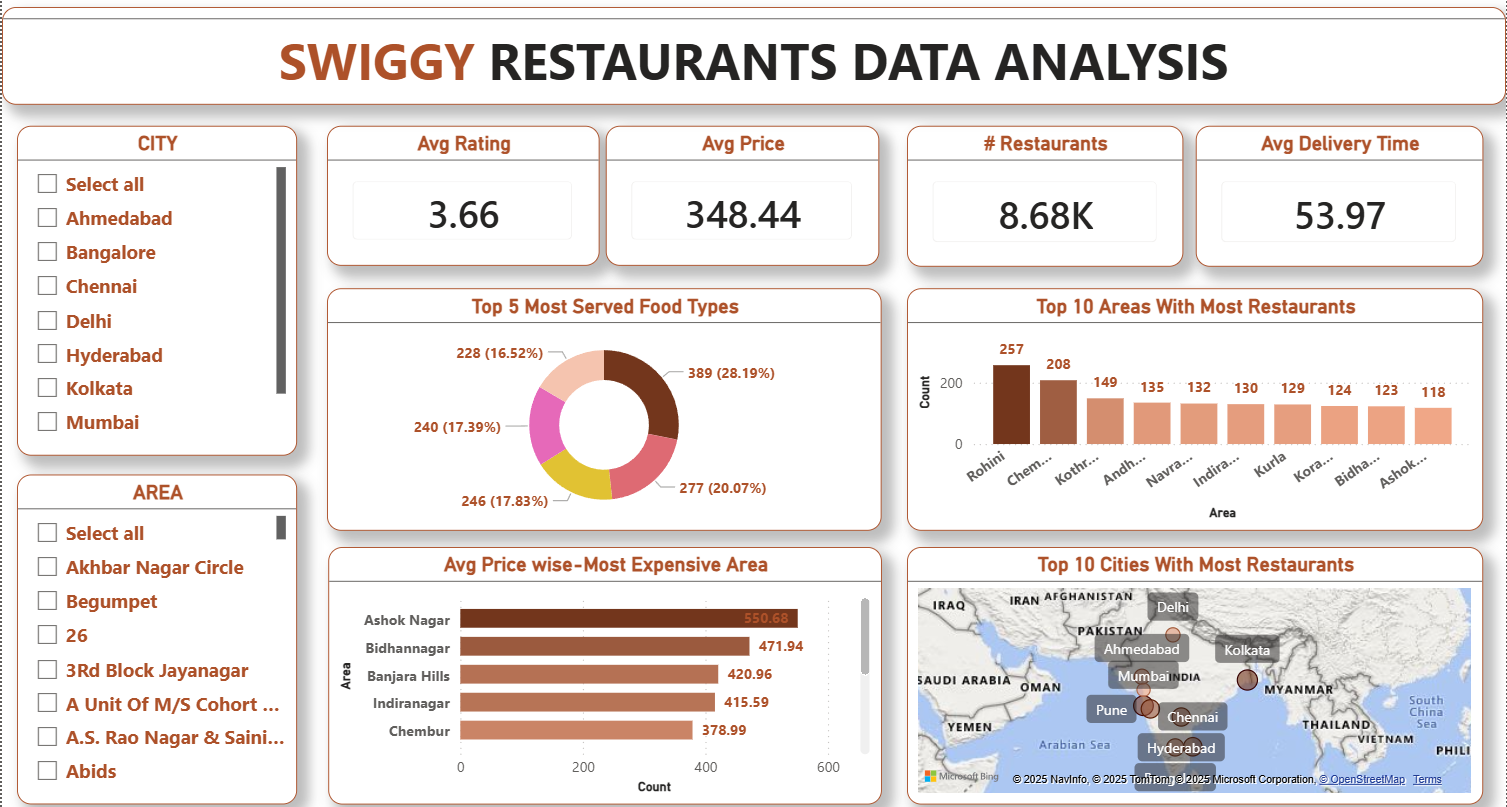

The dashboard page shown, as its layout file describes it:
{"tool":"powerbi","page":{"name":"Page 1","canvas":[1280,720],"ordinal":0},"visuals":[{"type":"cardVisual","title":"Avg Rating","fields":{"Data":["Avg(swiggy.Avg ratings)"]},"box":[250.9,15.7,232.3,119.7],"z":0},{"type":"cardVisual","title":"Avg Price","fields":{"Data":["Avg(swiggy.Price)"]},"box":[508.9,15.7,232.3,119.7],"z":1000},{"type":"cardVisual","title":"# Restaurants","fields":{"Data":["Count(swiggy.ID)"]},"box":[768.3,15.7,230.9,119.7],"z":2000},{"type":"cardVisual","title":"Avg Delivery Time ","fields":{"Data":["Avg(swiggy.Delivery time)"]},"box":[1023.2,13.7,231.9,120.8],"z":3000},{"type":"columnChart","title":"Top 10 Areas With Most Restaurants","fields":{"Category":["swiggy.Area"],"Y":["CountNonNull(swiggy.ID)"]},"box":[768.3,163.9,487.5,228.1],"z":4000},{"type":"donutChart","title":"Top 5 Most Served Food Types","fields":{"Category":["swiggy.Food type"],"Y":["CountNonNull(swiggy.ID)"]},"box":[250.9,165.3,490.3,226.6],"z":5000},{"type":"map","title":"Top 10 Cities With Most Restaurants","fields":{"Category":["swiggy.City"],"Size":["CountNonNull(swiggy.ID)"]},"box":[768.3,428.3,486.7,248.3],"z":6000},{"type":"barChart","title":"Avg Price wise-Most Expensive Area","fields":{"Category":["swiggy.Area"],"Y":["Avg(swiggy.Price)"]},"box":[255,428.3,486.7,248.3],"z":6001},{"type":"textbox","box":[0,0,238.3,176.7],"z":6002},{"type":"slicer","title":"CITY","fields":{"Values":["swiggy.City"]},"box":[0,181.7,238.3,246.7],"z":6003},{"type":"slicer","title":"AREA","fields":{"Values":["swiggy.Area"]},"box":[0,443.3,238.3,233.3],"z":6004}]}

Visuals, with their boxes on the page's 1280x720 design canvas (x1, y1, x2, y2). These are canvas units, not pixel positions in the 1507x807 screenshot, which may show the page scaled, cropped or inside an application window:
"Avg Rating" cardVisual: bbox=(251, 16, 483, 135)
"Avg Price" cardVisual: bbox=(509, 16, 741, 135)
"# Restaurants" cardVisual: bbox=(768, 16, 999, 135)
"Avg Delivery Time " cardVisual: bbox=(1023, 14, 1255, 134)
"Top 10 Areas With Most Restaurants" columnChart: bbox=(768, 164, 1256, 392)
"Top 5 Most Served Food Types" donutChart: bbox=(251, 165, 741, 392)
"Top 10 Cities With Most Restaurants" map: bbox=(768, 428, 1255, 677)
"Avg Price wise-Most Expensive Area" barChart: bbox=(255, 428, 742, 677)
textbox: bbox=(0, 0, 238, 177)
"CITY" slicer: bbox=(0, 182, 238, 428)
"AREA" slicer: bbox=(0, 443, 238, 677)
